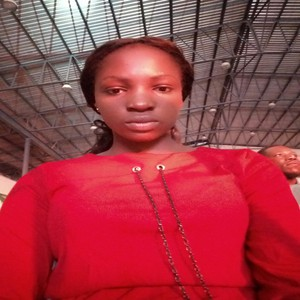Fulokoja_female_student: (84, 42, 209, 297)
